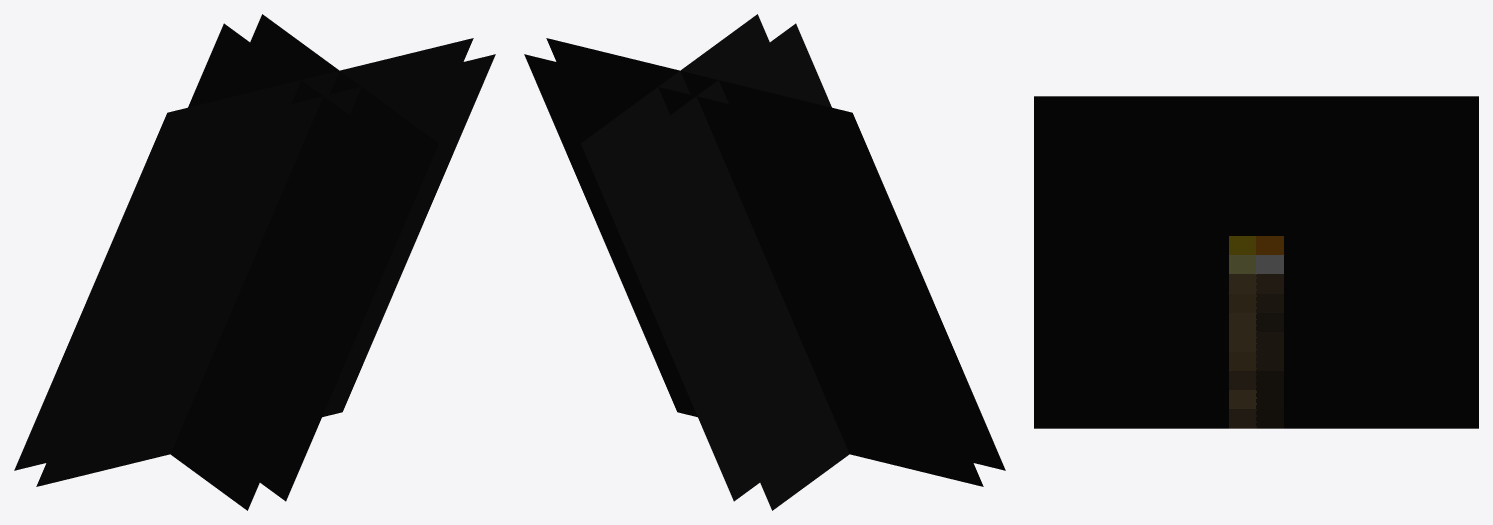
Rendered from TorchWallMesh.glb.
The picture shows the model from 3 angles, left to right: view 1: azimuth 30°, elevation 25°; view 2: azimuth 150°, elevation 25°; view 3: azimuth 270°, elevation 25°; orthographic projection. The views are drawn at different scales.
Parts seen in each view (by area): view 1: torch; view 2: torch; view 3: torch.
Part boxes in pixels (bbox=[...]): torch: bbox=[14, 14, 495, 510]; torch: bbox=[524, 14, 1005, 510]; torch: bbox=[1034, 96, 1478, 428].
Size of the model in its own units: 1.5 by 1 by 1.
1 material, 1 textured.
